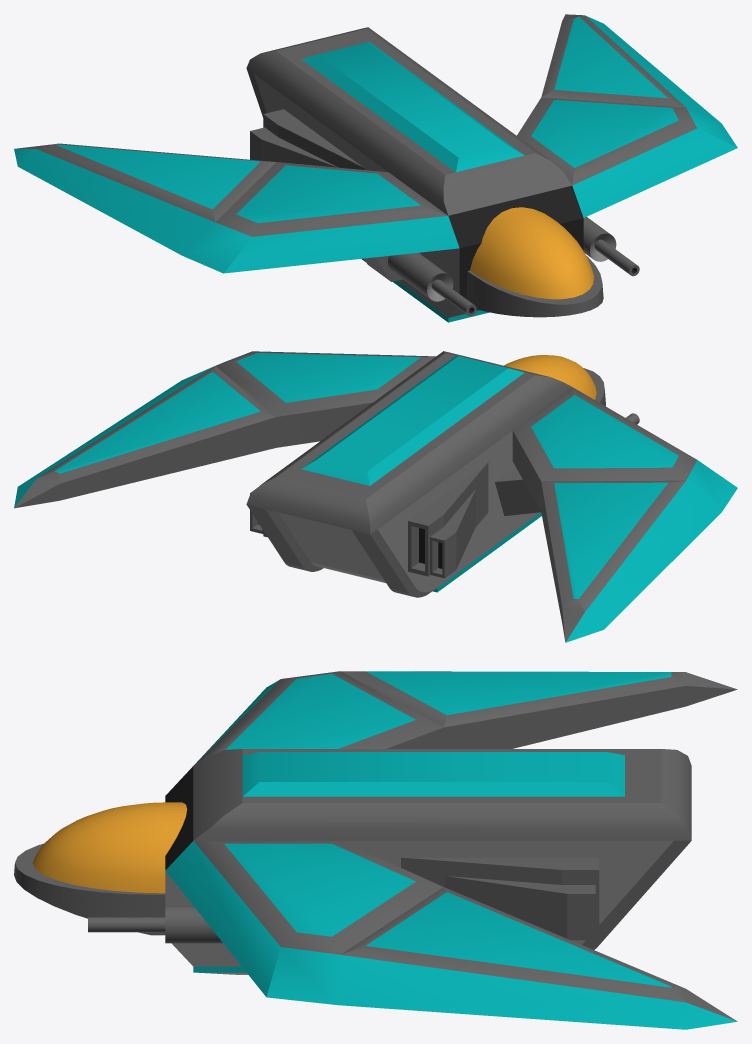
File: spaceshipplayer.fbx
3 views of the same model, one above another, from view 1: azimuth 30°, elevation 25°; view 2: azimuth 150°, elevation 25°; view 3: azimuth 270°, elevation 25° (orthographic). The views are drawn at different scales.
Visible parts, largest first — view 1: spaceship; view 2: spaceship; view 3: spaceship.
Boxes of the visible parts, x1,y1,x2,y2 form: spaceship: [14, 14, 737, 322]; spaceship: [14, 351, 737, 642]; spaceship: [14, 671, 737, 1029].
Size of the model in its own units: 1137 by 276 by 985.
